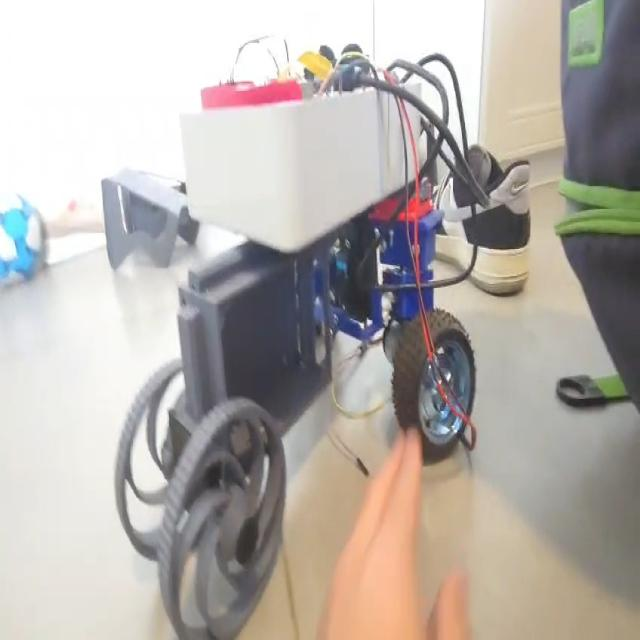Robot: (114, 38, 476, 640)
